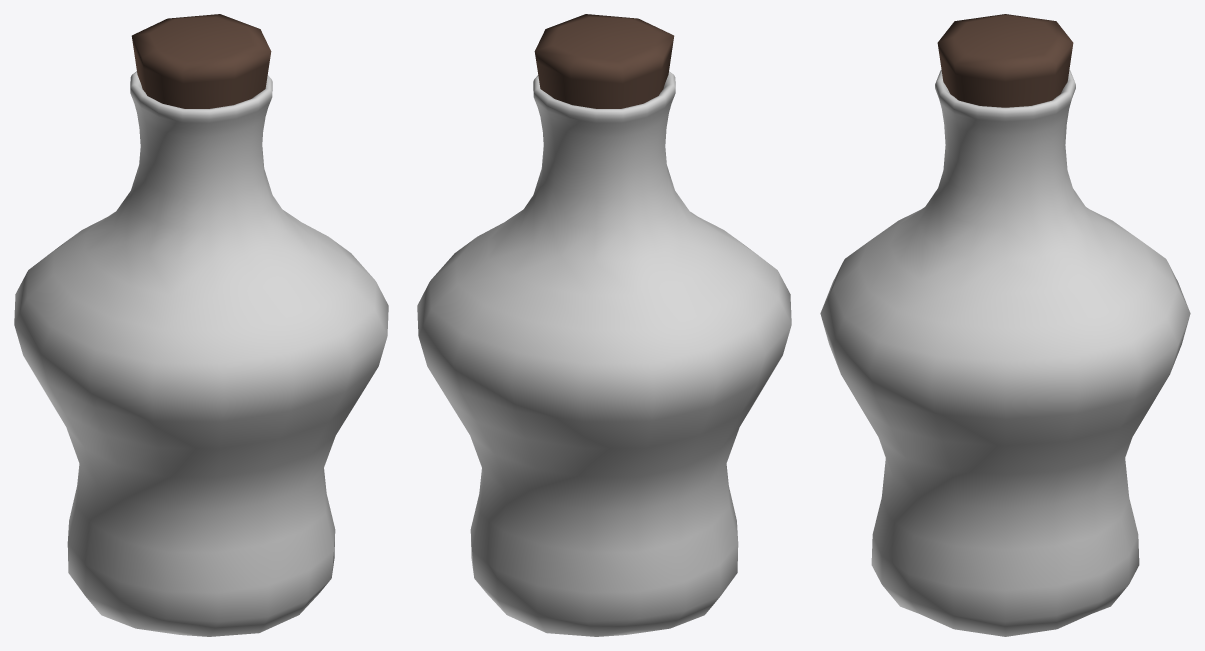
The model's file is Potion3_Filled.glb.
3 views of the same model, side by side, from view 1: azimuth 30°, elevation 25°; view 2: azimuth 150°, elevation 25°; view 3: azimuth 270°, elevation 25° (orthographic).
Parts seen in each view (by area): view 1: Potion3_Filled_Cube.066; view 2: Potion3_Filled_Cube.066; view 3: Potion3_Filled_Cube.066.
Boxes of the visible parts, bbox=[...] form: Potion3_Filled_Cube.066: bbox=[14, 14, 388, 636]; Potion3_Filled_Cube.066: bbox=[417, 14, 791, 636]; Potion3_Filled_Cube.066: bbox=[820, 14, 1190, 636].
Bounding box in the file's own units: 0.7187 × 1.22 × 0.7187.
